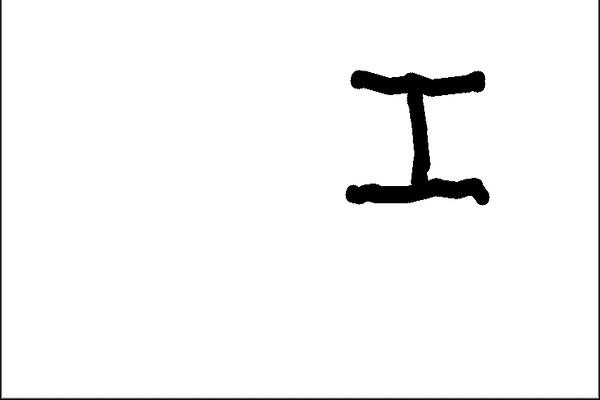i: (333, 57, 494, 218)
